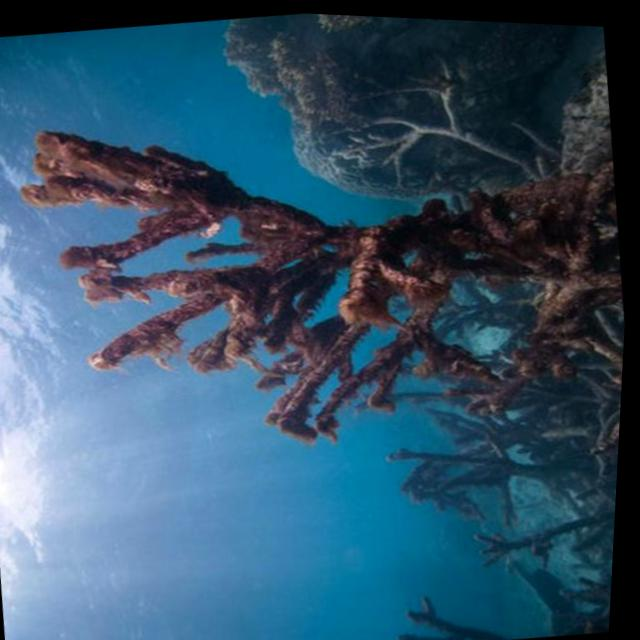Dead Coral: (0, 48, 611, 504)
